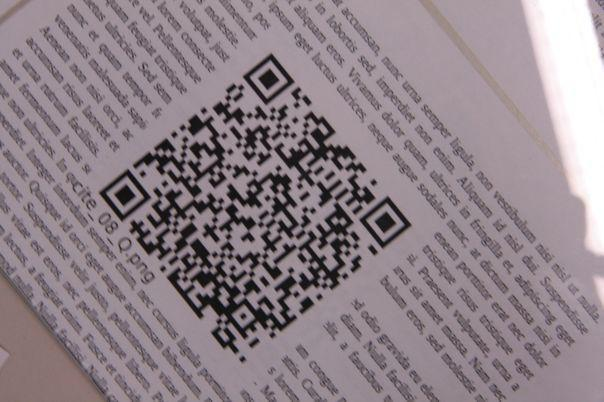Finder pattern: (358, 197, 414, 250), (238, 54, 297, 104), (100, 171, 152, 220)
